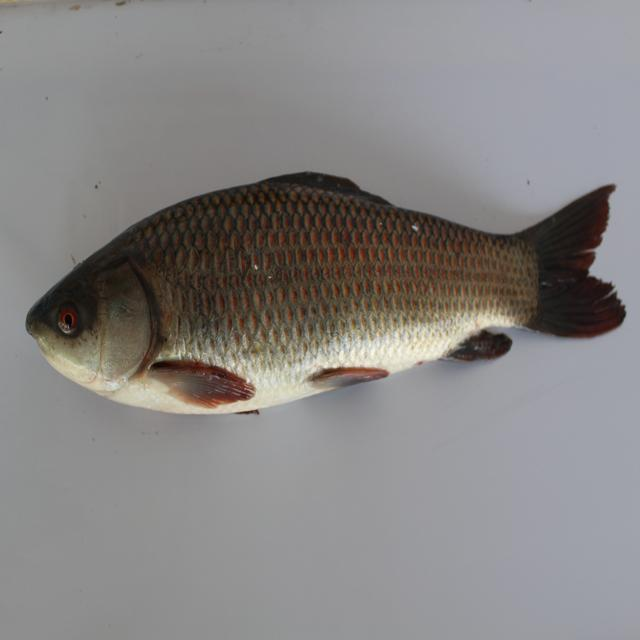Rohu: (27, 150, 633, 424)
